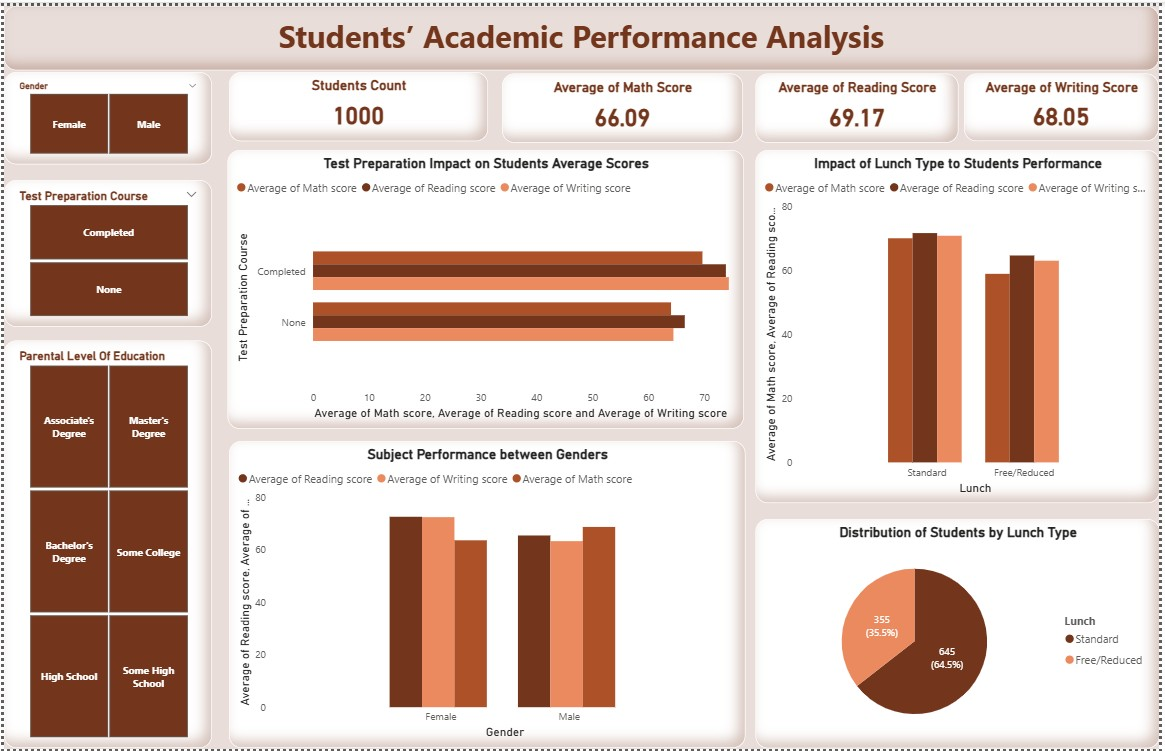

Layout of this report page (visuals, bound fields, positions):
{"tool":"powerbi","page":{"name":"Student s' Performance Analysis 1","canvas":[1400,900],"ordinal":0},"visuals":[{"type":"clusteredColumnChart","title":"Subject Performance between Genders","fields":{"Category":["Table1.Gender"],"Y":["Avg(Table1.Reading score)","Avg(Table1.Writing score)","Avg(Table1.Math score)"]},"box":[272,528,626,372],"z":0},{"type":"clusteredBarChart","title":"Test Preparation Impact on Students Average Scores","fields":{"Category":["Table1.Test Preparation Course"],"Y":["Avg(Table1.Math score)","Avg(Table1.Reading score)","Avg(Table1.Writing score)"]},"box":[270,174,626,338],"z":1000},{"type":"clusteredColumnChart","title":"Impact of Lunch Type to Students Performance","fields":{"Category":["Table1.Lunch"],"Y":["Avg(Table1.Math score)","Avg(Table1.Reading score)","Avg(Table1.Writing score)"]},"box":[910,174,490,428],"z":2000},{"type":"pieChart","title":"Distribution of Students by Lunch Type","fields":{"Y":["Table1.Students count"],"Category":["Table1.Lunch"]},"box":[910,622,490,278],"z":3000},{"type":"card","title":"Average of Math Score","fields":{"Values":["Avg(Table1.Math score)"]},"box":[604,82,292,84],"z":4000},{"type":"card","title":"Average of Reading Score","fields":{"Values":["Avg(Table1.Reading score)"]},"box":[910,82,246,84],"z":5000},{"type":"card","title":"Average of Writing Score","fields":{"Values":["Avg(Table1.Writing score)"]},"box":[1164,82,236,82],"z":6000},{"type":"card","title":"Students Count","fields":{"Values":["Table1.Students count"]},"box":[272,80,314,84],"z":7000},{"type":"slicer","fields":{"Values":["Table1.Gender"]},"box":[0,80,252,112],"z":8000},{"type":"slicer","fields":{"Values":["Table1.Test Preparation Course"]},"box":[0,210,252,178],"z":9000},{"type":"slicer","fields":{"Values":["Table1.Parental Level Of Education"]},"box":[0,405.9,252.9,494.1],"z":10000},{"type":"textbox","box":[0,0,1400,78],"z":11000}]}

Visuals, with their boxes in screenshot pixels (x1, y1, x2, y2), scaled from the page's 1400x900 canvas onto the 1165x751 screenshot:
"Subject Performance between Genders" clusteredColumnChart: left=226, top=441, right=747, bottom=750
"Test Preparation Impact on Students Average Scores" clusteredBarChart: left=225, top=145, right=746, bottom=427
"Impact of Lunch Type to Students Performance" clusteredColumnChart: left=757, top=145, right=1164, bottom=502
"Distribution of Students by Lunch Type" pieChart: left=757, top=519, right=1164, bottom=750
"Average of Math Score" card: left=503, top=68, right=746, bottom=139
"Average of Reading Score" card: left=757, top=68, right=962, bottom=139
"Average of Writing Score" card: left=969, top=68, right=1164, bottom=137
"Students Count" card: left=226, top=67, right=488, bottom=137
slicer - Table1.Gender: left=0, top=67, right=210, bottom=160
slicer - Table1.Test Preparation Course: left=0, top=175, right=210, bottom=324
slicer - Table1.Parental Level Of Education: left=0, top=339, right=210, bottom=750
textbox: left=0, top=0, right=1164, bottom=65
